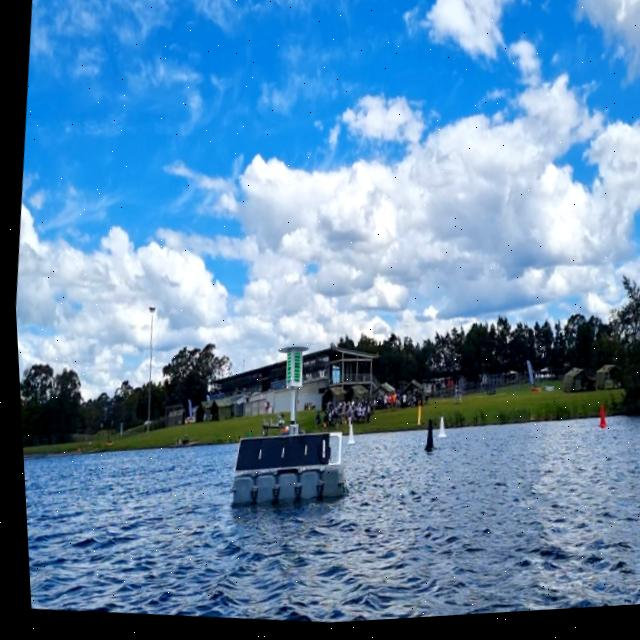led: (284, 353, 300, 389), (280, 356, 290, 388)
